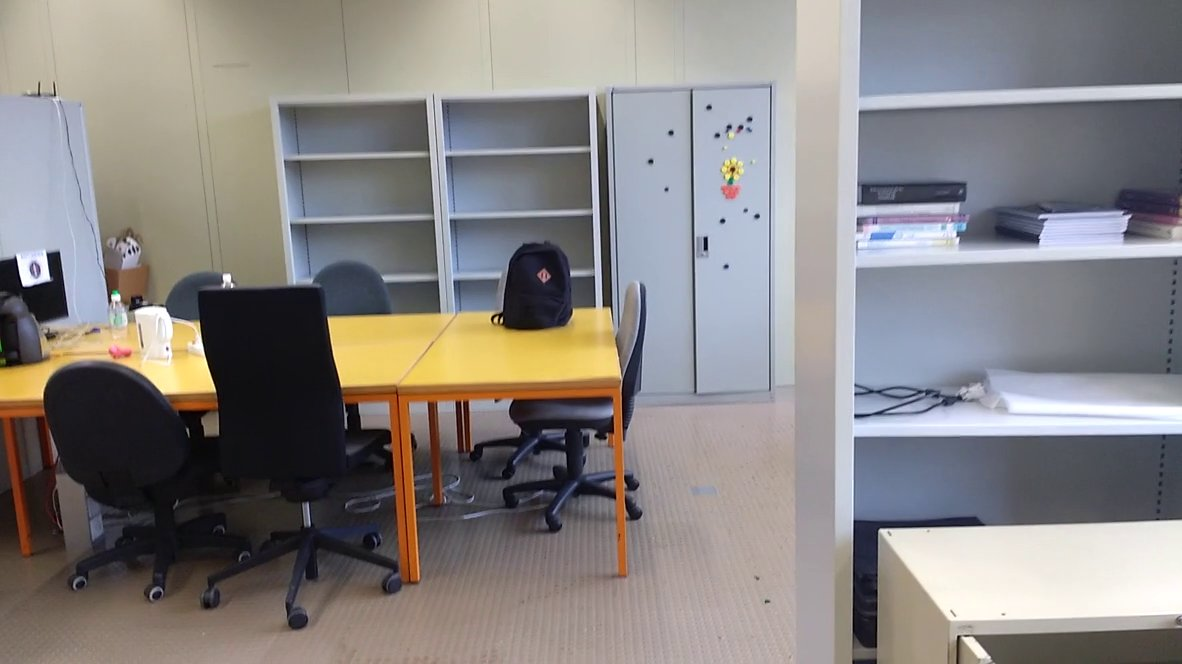bag: (486, 231, 579, 334)
chair: (181, 281, 435, 640), (39, 355, 265, 605), (505, 261, 663, 541), (290, 251, 411, 349)
